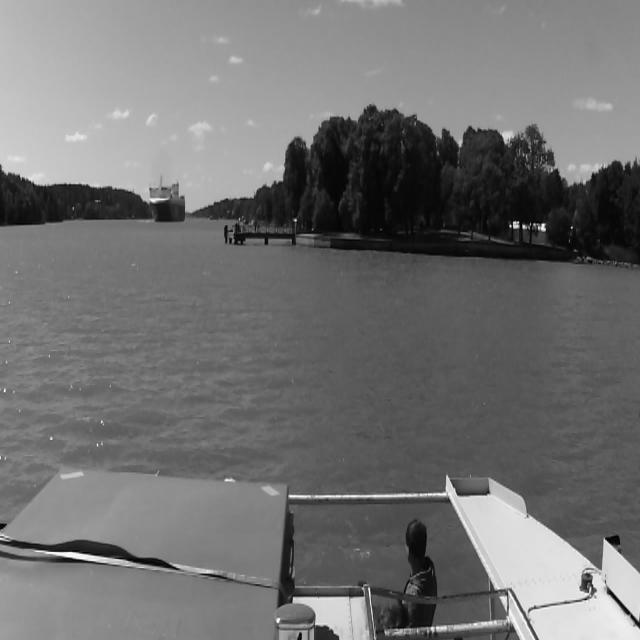ship: (148, 175, 184, 222)
